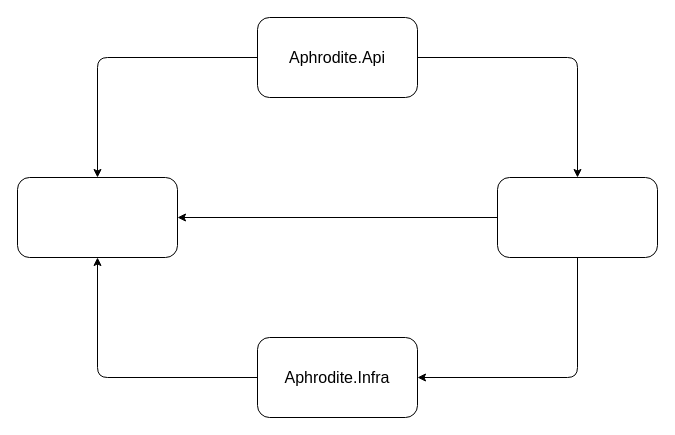
The diagram is 675 pixels wide and 435 high, and some of its shapes have lost their labels. Each missing label, with the centre of its shape:
Aphrodite.Domain: [97,217]
Aphrodite.Service: [577,217]
